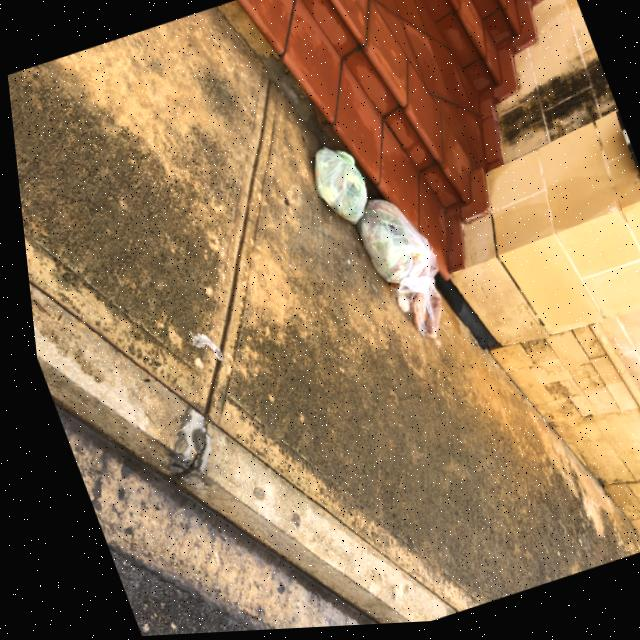Organic Waste -White Bag-: (341, 189, 454, 349), (298, 143, 377, 236)
